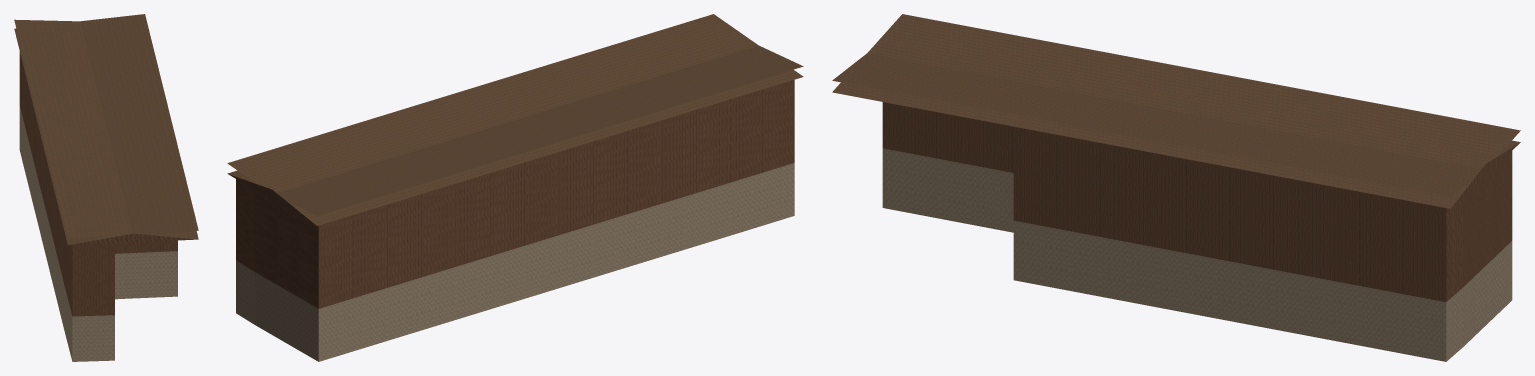
File: bld_c10_31_411.gltf
3 views of the same model, side by side, from view 1: azimuth 30°, elevation 25°; view 2: azimuth 150°, elevation 25°; view 3: azimuth 270°, elevation 25° (orthographic). The views are drawn at different scales.
Parts seen in each view (by area): view 1: bld_c10_31_411; view 2: bld_c10_31_411; view 3: bld_c10_31_411.
Boxes of the visible parts, bbox=[...] form: bld_c10_31_411: bbox=[14, 14, 198, 361]; bld_c10_31_411: bbox=[227, 14, 803, 361]; bld_c10_31_411: bbox=[832, 14, 1520, 361].
Bounding box in the file's own units: 33.57 × 14.4 × 53.34.
4 materials, 4 textured.
